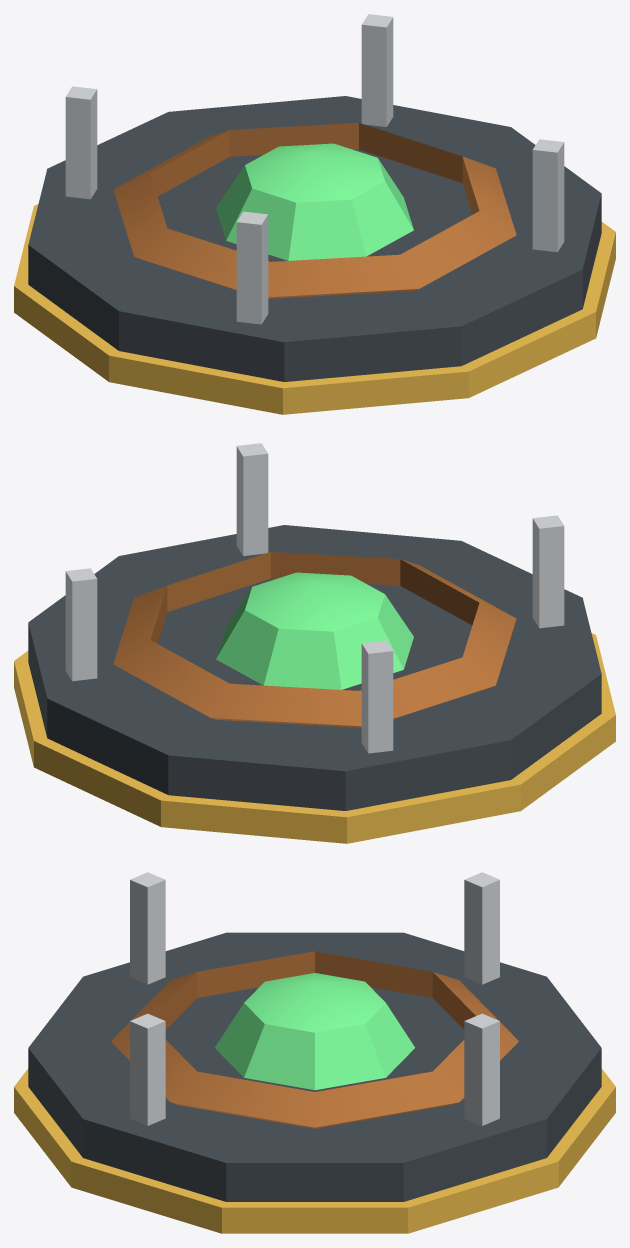
File: Throwable_ShockMine.fbx
The picture shows the model from 3 angles, top to bottom: view 1: azimuth 30°, elevation 25°; view 2: azimuth 150°, elevation 25°; view 3: azimuth 270°, elevation 25°; orthographic projection. The views are drawn at different scales.
Parts seen in each view (by area): view 1: Mine; view 2: Mine; view 3: Mine.
Part boxes in pixels (x1,y1,x2,y2): Mine: [14, 14, 615, 414]; Mine: [14, 443, 615, 843]; Mine: [14, 872, 615, 1233].
Size of the model in its own units: 0.7989 by 0.25 by 0.84.
